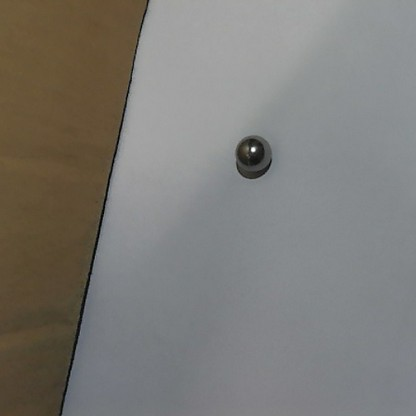ironball: (229, 135, 276, 175)
